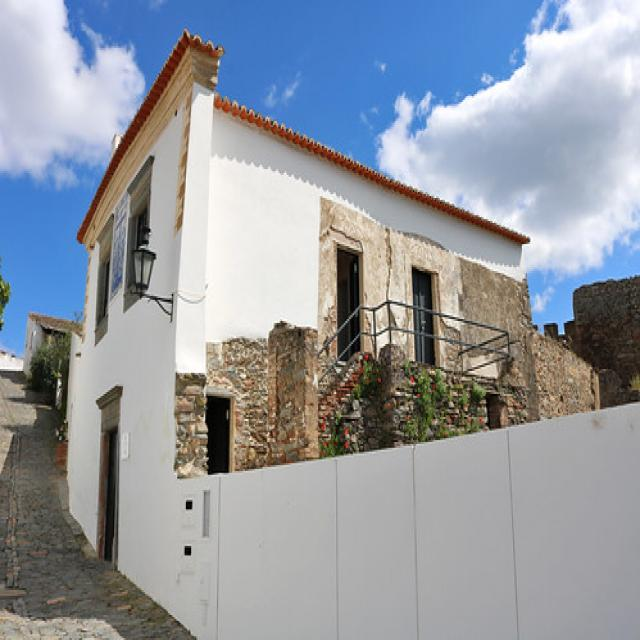Normal_building: (75, 35, 538, 590)
